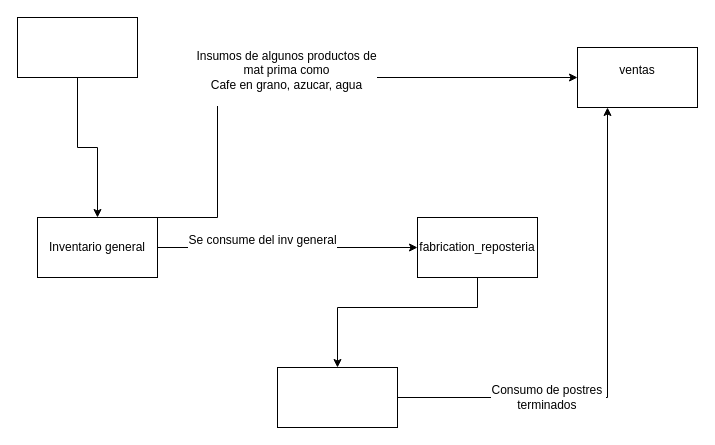
Some shapes in this 715 by 445 pixel diagram are drawn without their labels. The shapes that lost their labels are listed below. From the top down, each one's centre as x and y in pixels, then its label:
At [77,47]: "compras".
At [337,397]: "Inventario de postres".
